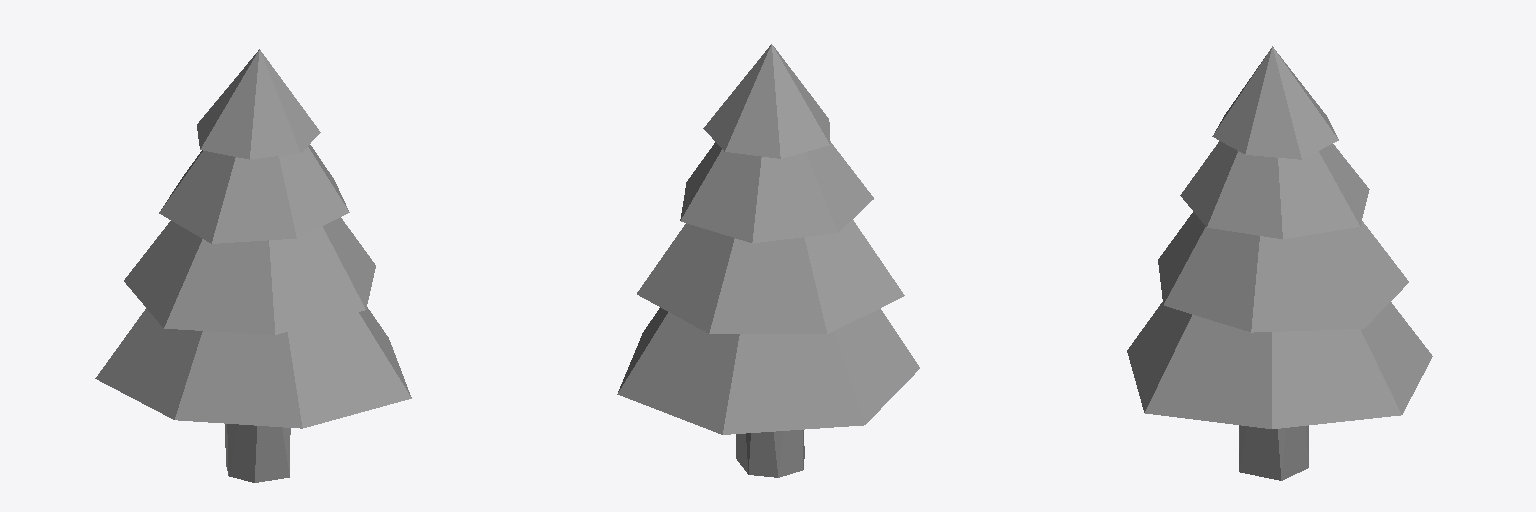
Rendered from LowPolyTree1.obj.
The picture shows the model from 3 angles: view 1: azimuth 30°, elevation 25°; view 2: azimuth 150°, elevation 25°; view 3: azimuth 270°, elevation 25°; orthographic projection.
Visible parts, largest first — view 1: Cone, Cone.001, Cone.002, Cone.003, Cylinder; view 2: Cone, Cone.001, Cone.002, Cone.003, Cylinder; view 3: Cone, Cone.001, Cone.002, Cone.003, Cylinder.
Part boxes in pixels (x1,y1,x2,y2): Cone: (95, 307, 411, 428); Cone.001: (124, 217, 375, 334); Cone.002: (159, 145, 349, 243); Cone.003: (197, 49, 320, 159); Cylinder: (225, 424, 290, 482); Cone: (617, 307, 919, 434); Cone.001: (637, 219, 904, 333); Cone.002: (680, 141, 873, 242); Cone.003: (703, 44, 829, 158); Cylinder: (736, 430, 804, 477); Cone: (1127, 302, 1432, 428); Cone.001: (1158, 212, 1408, 332); Cone.002: (1180, 141, 1369, 238); Cone.003: (1212, 46, 1338, 159); Cylinder: (1239, 425, 1308, 480).
Bounding box in the file's own units: 0.2976 × 0.4625 × 0.3059.